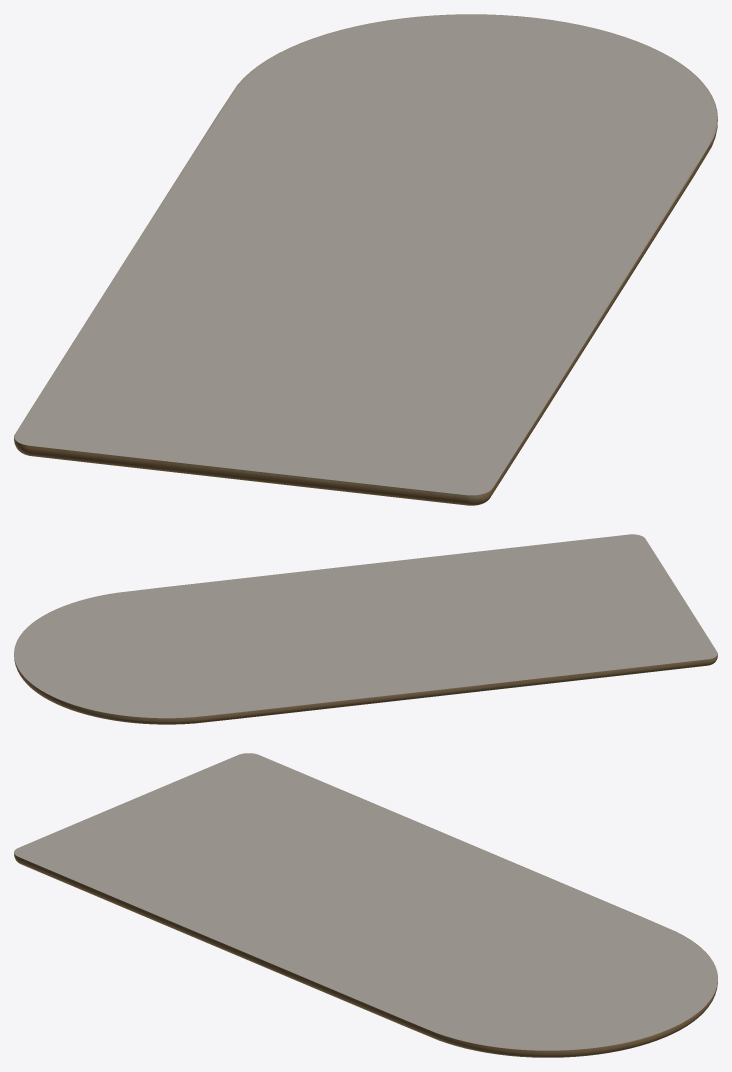
The model's file is diningtable_0204_top.glb.
3 renders of one model, top to bottom at view 1: azimuth 30°, elevation 25°; view 2: azimuth 150°, elevation 25°; view 3: azimuth 270°, elevation 25°, orthographic. The views are drawn at different scales.
Visible parts, largest first — view 1: diningtable_0204_top; view 2: diningtable_0204_top; view 3: diningtable_0204_top.
Part boxes in pixels (x1=…): diningtable_0204_top: x1=14, y1=14, x2=717, y2=505; diningtable_0204_top: x1=14, y1=534, x2=717, y2=724; diningtable_0204_top: x1=14, y1=753, x2=717, y2=1057.
Size of the model in its own units: 1.66 by 0.0242 by 1.66.
Materials: 1 (1 with a texture image).
